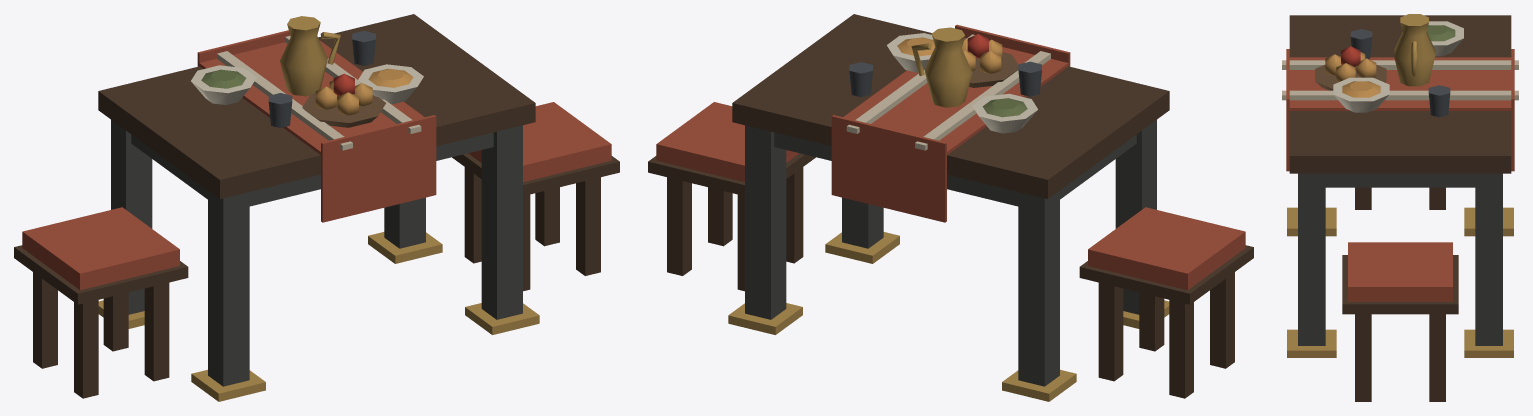
The model's file is diner_set_2.glb.
The picture shows the model from 3 angles, left to right: view 1: azimuth 30°, elevation 25°; view 2: azimuth 150°, elevation 25°; view 3: azimuth 270°, elevation 25°; orthographic projection. The views are drawn at different scales.
Visible parts, largest first — view 1: diner_set_2; view 2: diner_set_2; view 3: diner_set_2.
Boxes of the visible parts, <box> form: diner_set_2: <box>14,14,619,401</box>; diner_set_2: <box>648,14,1253,401</box>; diner_set_2: <box>1282,14,1518,401</box>.
Bounding box in the file's own units: 2.06 × 1.05 × 0.854.
